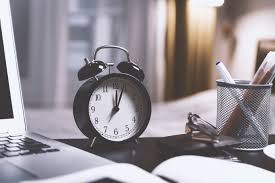alarm_clock: (71, 42, 151, 144), (71, 42, 151, 142), (79, 42, 151, 142), (79, 48, 151, 142)
